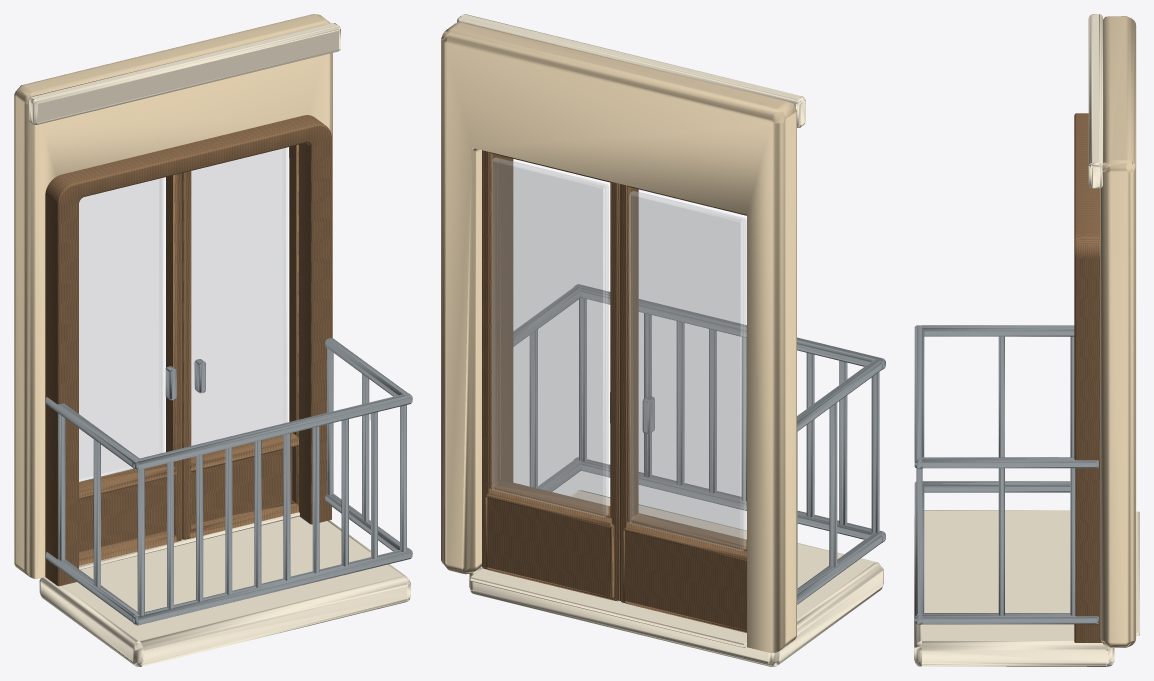
File: Balcony.glb
The picture shows the model from 3 angles, left to right: view 1: azimuth 30°, elevation 25°; view 2: azimuth 150°, elevation 25°; view 3: azimuth 270°, elevation 25°; orthographic projection. The views are drawn at different scales.
Visible parts, largest first — view 1: PBK_substrate.001, PBK_Continuous_Frame_Indochine_Balcony.001, PBK_balcony_door_glass.002, PBK_balcony_slab.001, PBK_balcony_door_glass.001, PBK_floor_band.001, PBK_door_stile.009, PBK_door_kick_panel.002, PBK_door_kick_panel.001, PBK_door_stile.010, PBK_front_rail.004, PBK_front_rail.001 (+24 smaller); view 2: PBK_substrate.001, PBK_balcony_door_glass.001, PBK_balcony_door_glass.002, PBK_balcony_slab.001, PBK_door_kick_panel.002, PBK_door_kick_panel.001, PBK_door_stile.011, PBK_door_stile.009, PBK_door_threshold.002, PBK_Continuous_Frame_Indochine_Balcony.001, PBK_door_stile.010, PBK_floor_band.001 (+17 smaller); view 3: PBK_substrate.001, PBK_balcony_slab.001, PBK_Continuous_Frame_Indochine_Balcony.001, PBK_floor_band.001, PBK_side_rail.007, PBK_side_rail.005, PBK_side_rail.006, PBK_side_rail.004, PBK_front_rail.004, PBK_side_baluster.007, PBK_baluster.019, PBK_side_baluster.006 (+4 smaller).
Part boxes in pixels (box(x1,y1,x2,y2)): PBK_substrate.001: box(14, 14, 332, 578); PBK_Continuous_Frame_Indochine_Balcony.001: box(45, 115, 331, 586); PBK_balcony_door_glass.002: box(191, 147, 287, 445); PBK_balcony_slab.001: box(39, 516, 410, 666); PBK_balcony_door_glass.001: box(79, 178, 163, 482); PBK_floor_band.001: box(28, 23, 340, 124); PBK_door_stile.009: box(166, 173, 182, 541); PBK_door_kick_panel.002: box(191, 447, 292, 524); PBK_door_kick_panel.001: box(79, 478, 166, 552); PBK_door_stile.010: box(182, 171, 191, 539); PBK_front_rail.004: box(132, 393, 412, 470); PBK_front_rail.001: box(132, 548, 412, 625); PBK_substrate.001: box(441, 22, 796, 653); PBK_balcony_door_glass.001: box(629, 191, 745, 550); PBK_balcony_door_glass.002: box(492, 157, 608, 516); PBK_balcony_slab.001: box(469, 490, 883, 666); PBK_door_kick_panel.002: box(485, 493, 614, 599); PBK_door_kick_panel.001: box(623, 527, 746, 632); PBK_door_stile.011: box(482, 150, 500, 569); PBK_door_stile.009: box(620, 184, 638, 603); PBK_door_threshold.002: box(470, 568, 746, 647); PBK_Continuous_Frame_Indochine_Balcony.001: box(501, 156, 513, 482); PBK_door_stile.010: box(610, 182, 620, 601); PBK_floor_band.001: box(457, 14, 805, 127); PBK_substrate.001: box(1100, 16, 1136, 647); PBK_balcony_slab.001: box(914, 510, 1114, 666); PBK_Continuous_Frame_Indochine_Balcony.001: box(1074, 113, 1101, 642); PBK_floor_band.001: box(1088, 14, 1102, 188); PBK_side_rail.007: box(916, 457, 1098, 468); PBK_side_rail.005: box(918, 613, 1098, 624); PBK_side_rail.006: box(918, 325, 1074, 336); PBK_side_rail.004: box(922, 481, 1070, 492); PBK_front_rail.004: box(914, 325, 924, 468); PBK_side_baluster.007: box(998, 468, 1004, 615); PBK_baluster.019: box(916, 468, 922, 613); PBK_side_baluster.006: box(1070, 468, 1075, 615).
Size of the model in its own units: 2 by 3.16 by 1.26.
6 materials, 2 textured.
